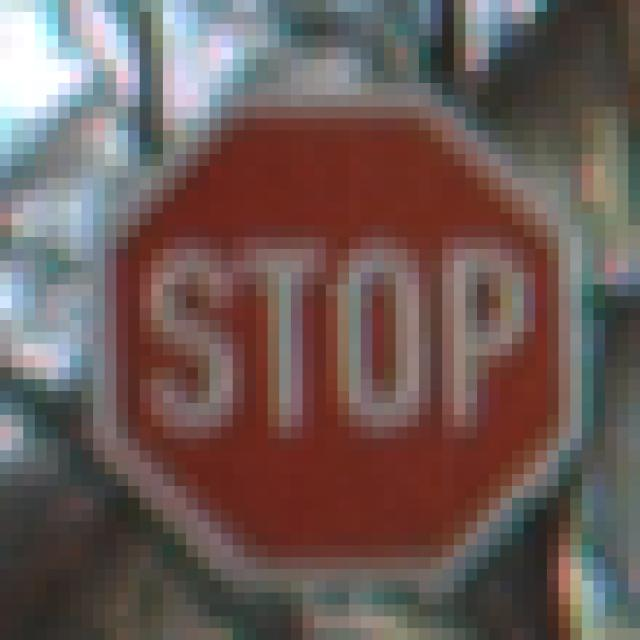STOP: (71, 60, 571, 570)
